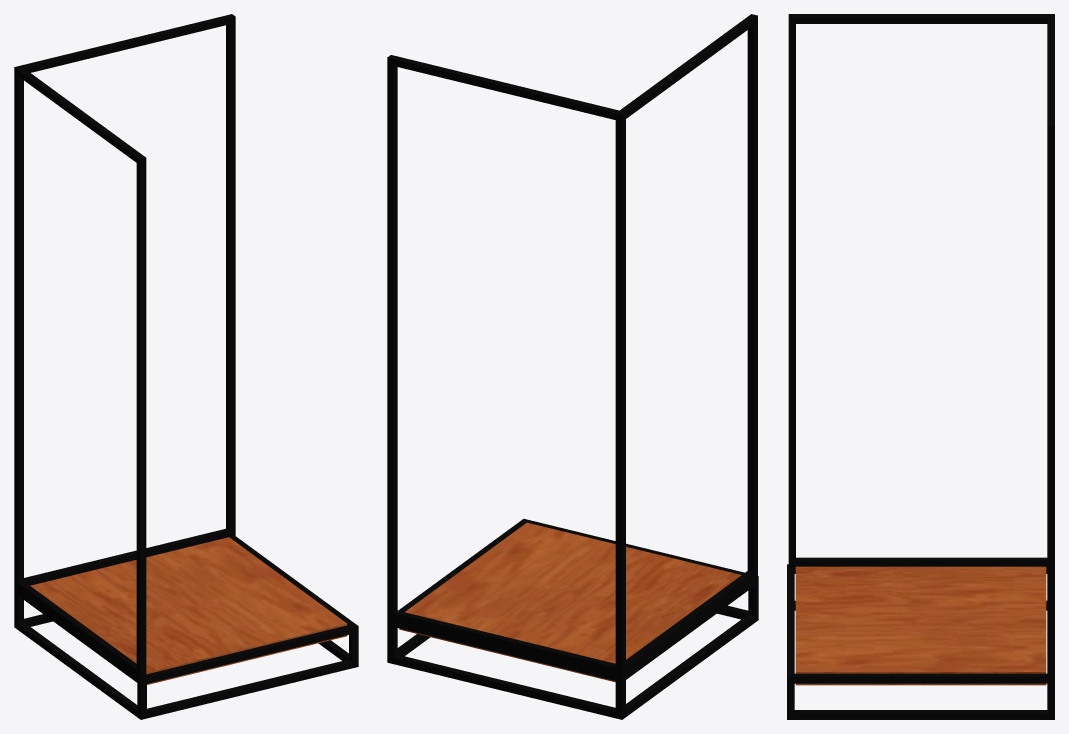
File: shelf-02-a.glb
3 renders of one model, left to right at view 1: azimuth 30°, elevation 25°; view 2: azimuth 150°, elevation 25°; view 3: azimuth 270°, elevation 25°, orthographic. The views are drawn at different scales.
Parts seen in each view (by area): view 1: Shelf_02_a; view 2: Shelf_02_a; view 3: Shelf_02_a.
Part boxes in pixels (x1,y1,x2,y2): Shelf_02_a: [14, 14, 358, 719]; Shelf_02_a: [387, 14, 758, 719]; Shelf_02_a: [787, 14, 1054, 719].
Size of the model in its own units: 0.8949 by 2.2 by 0.9.
Materials: 1 (1 with a texture image).
